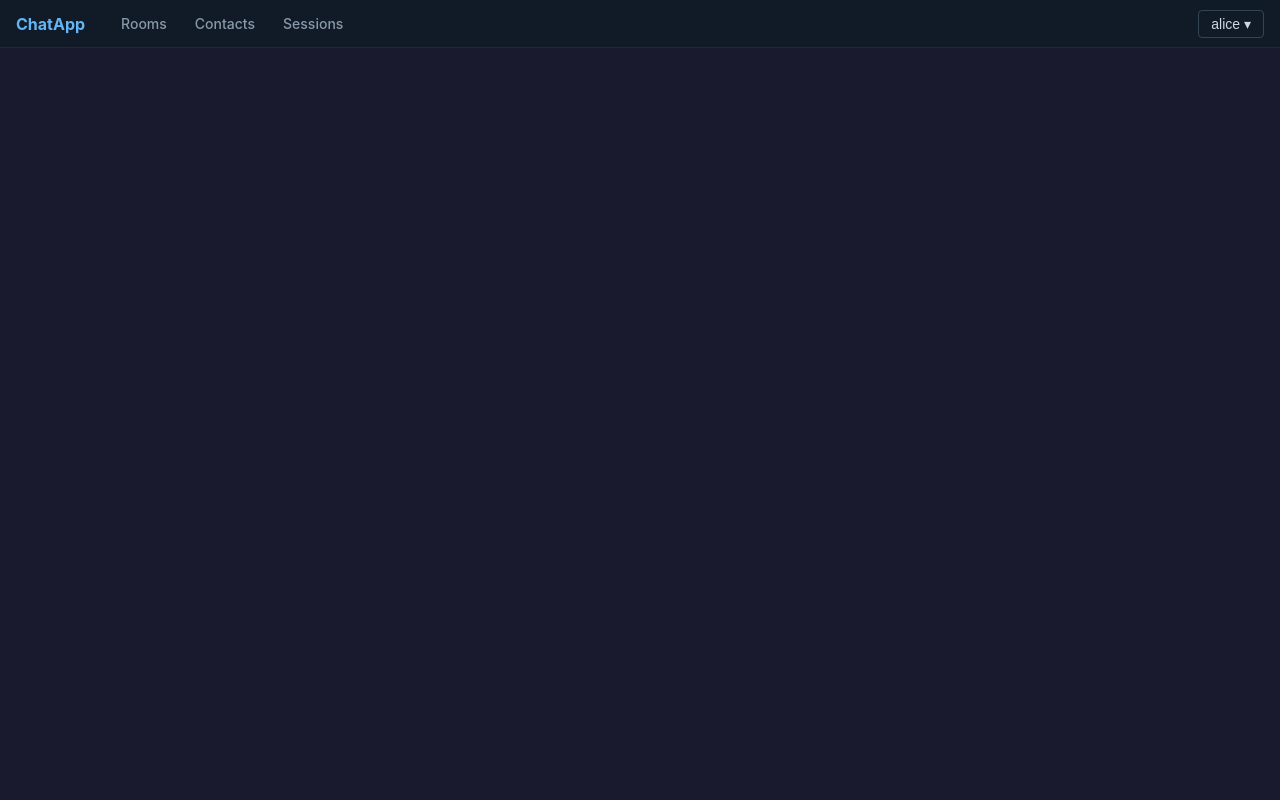
Test: NavBar › closes dropdown when clicking outside
Click the button with aria-label "profile menu": (1231, 24) [1198, 10, 1264, 38]
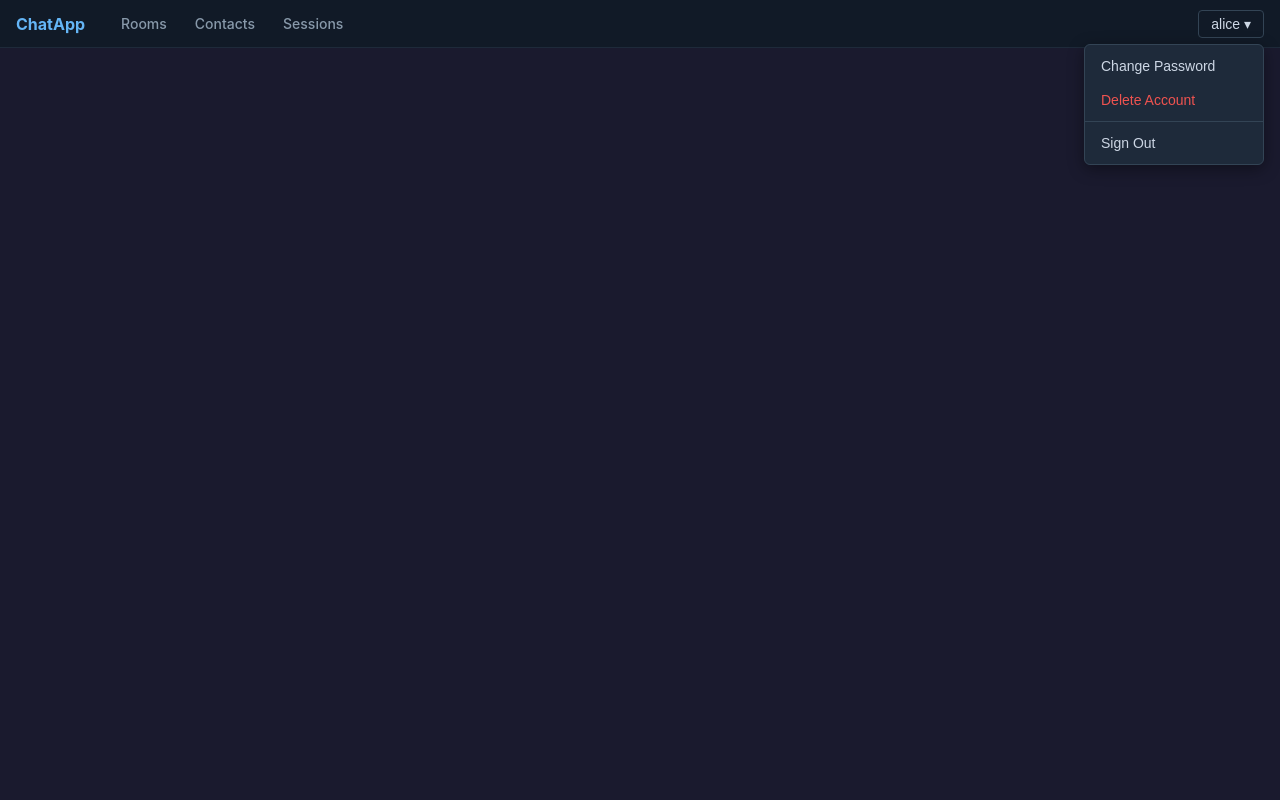
Expected: the menu is shown, [1084, 44, 1264, 164]
Press the mouse on the element that starts with "ChatApp": (640, 400) [0, 0, 1279, 799]
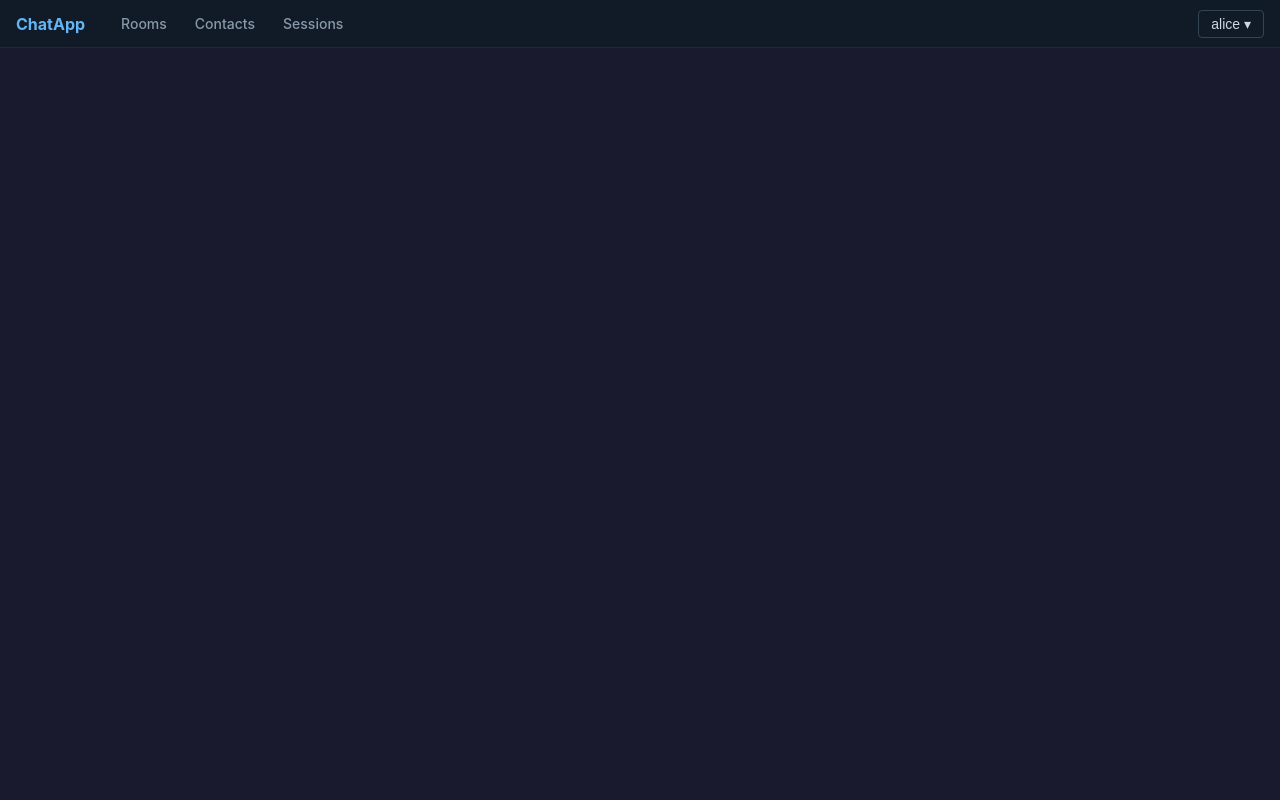
Expected: the menu is gone
